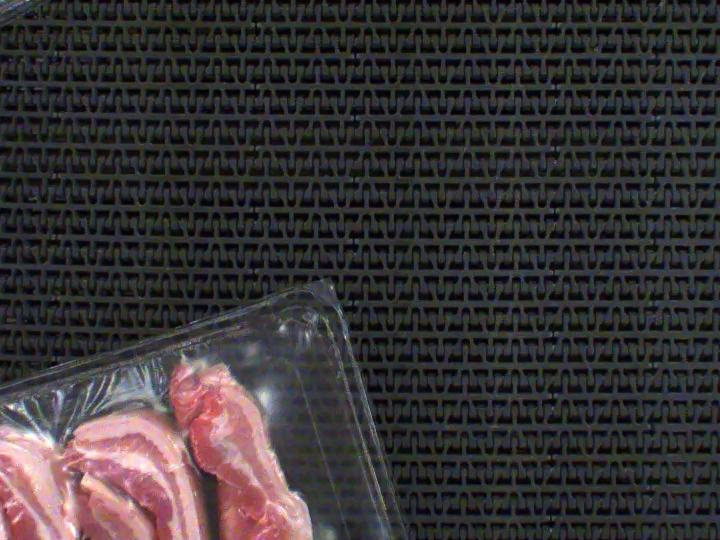unsealed: (0, 328, 330, 540)
